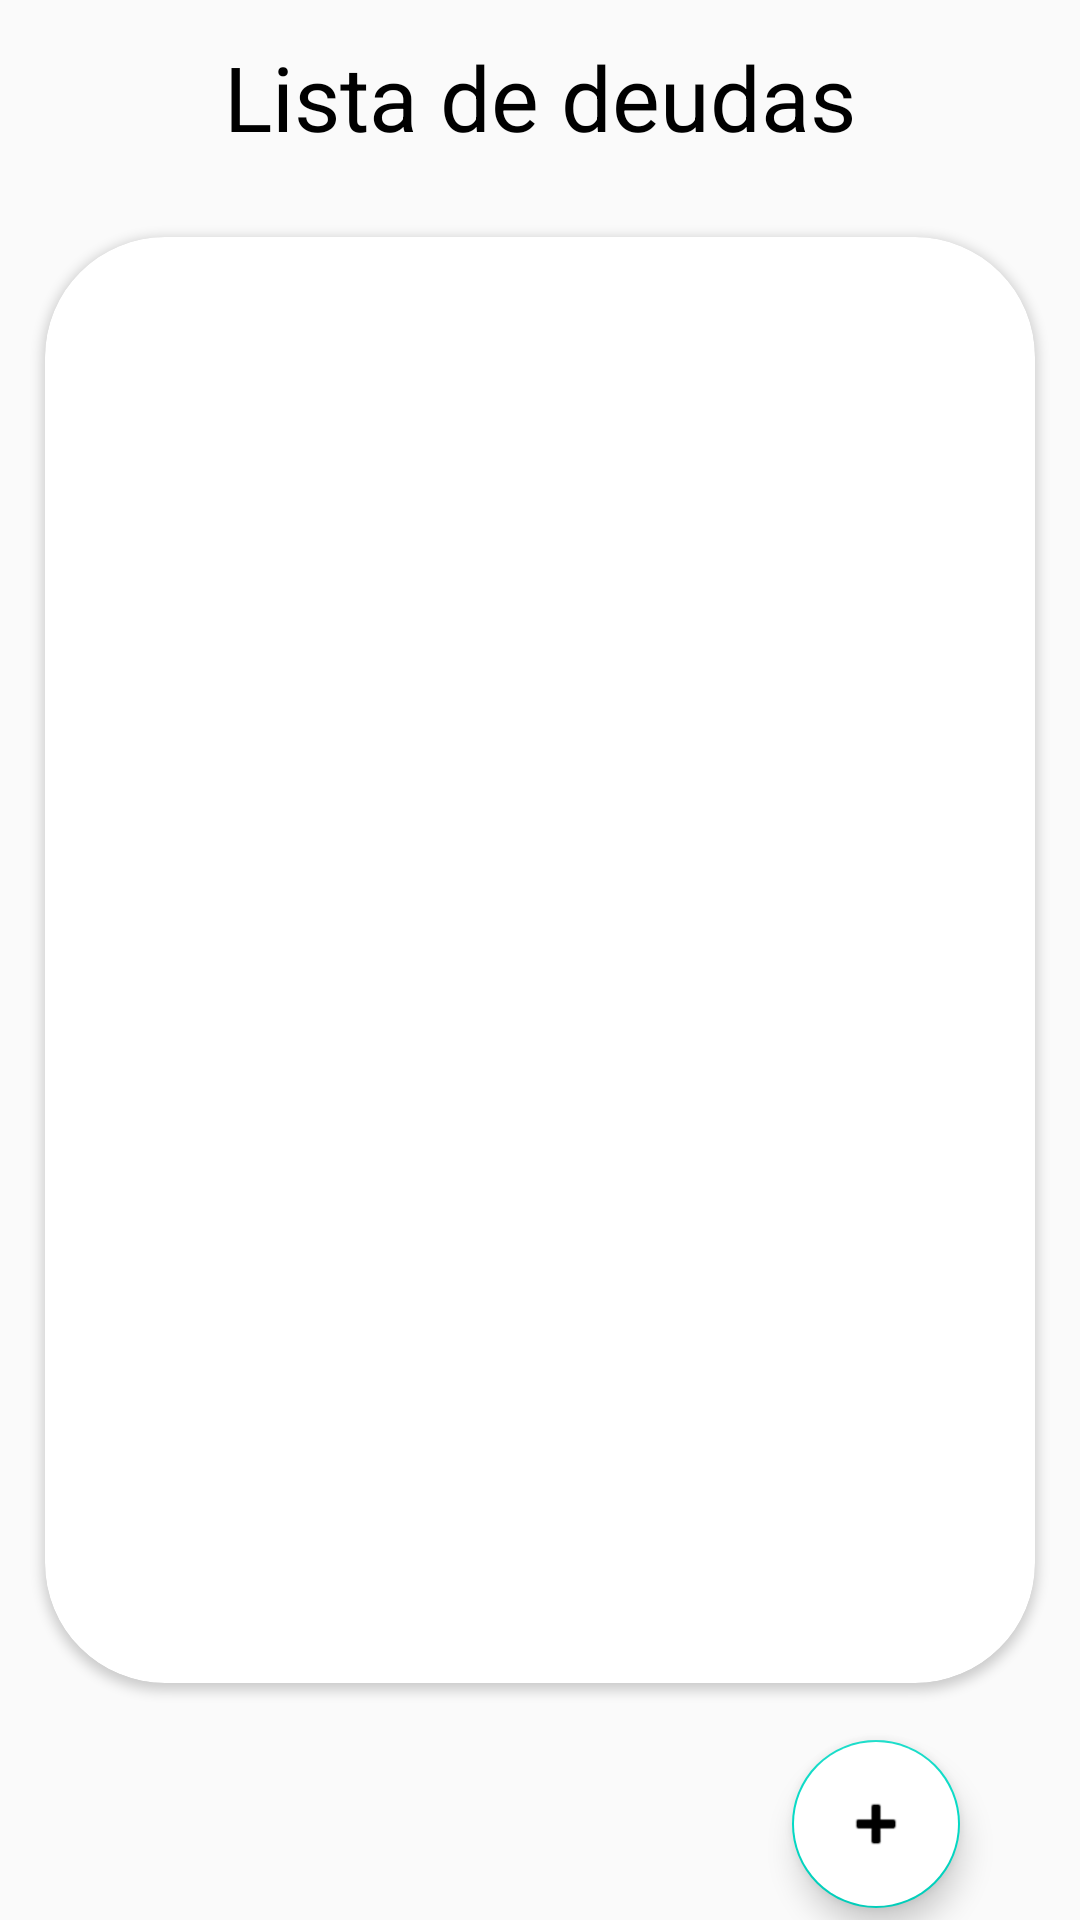

Icon bounding boxes for this 1080*1920 phone screenshot, format (x1, y1, x2, y2):
add: (792, 1740, 960, 1908)
